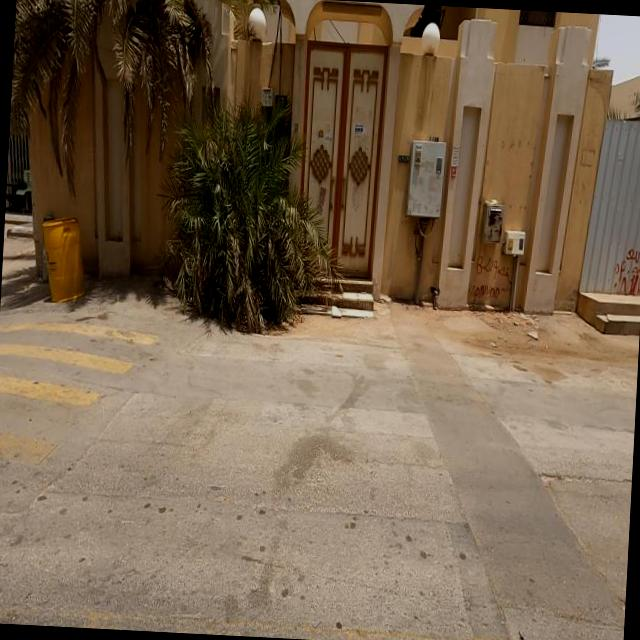debris: (435, 222, 541, 345), (575, 202, 640, 323)
